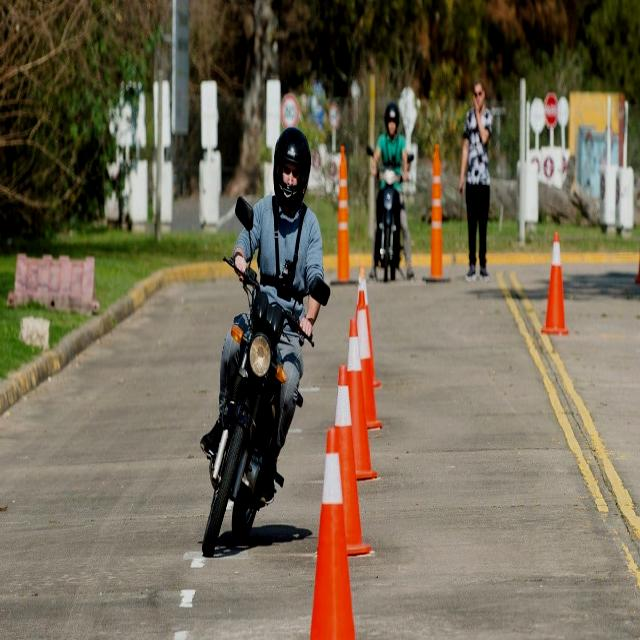MOTORCYCLE: (203, 247, 299, 554), (371, 162, 403, 278)
